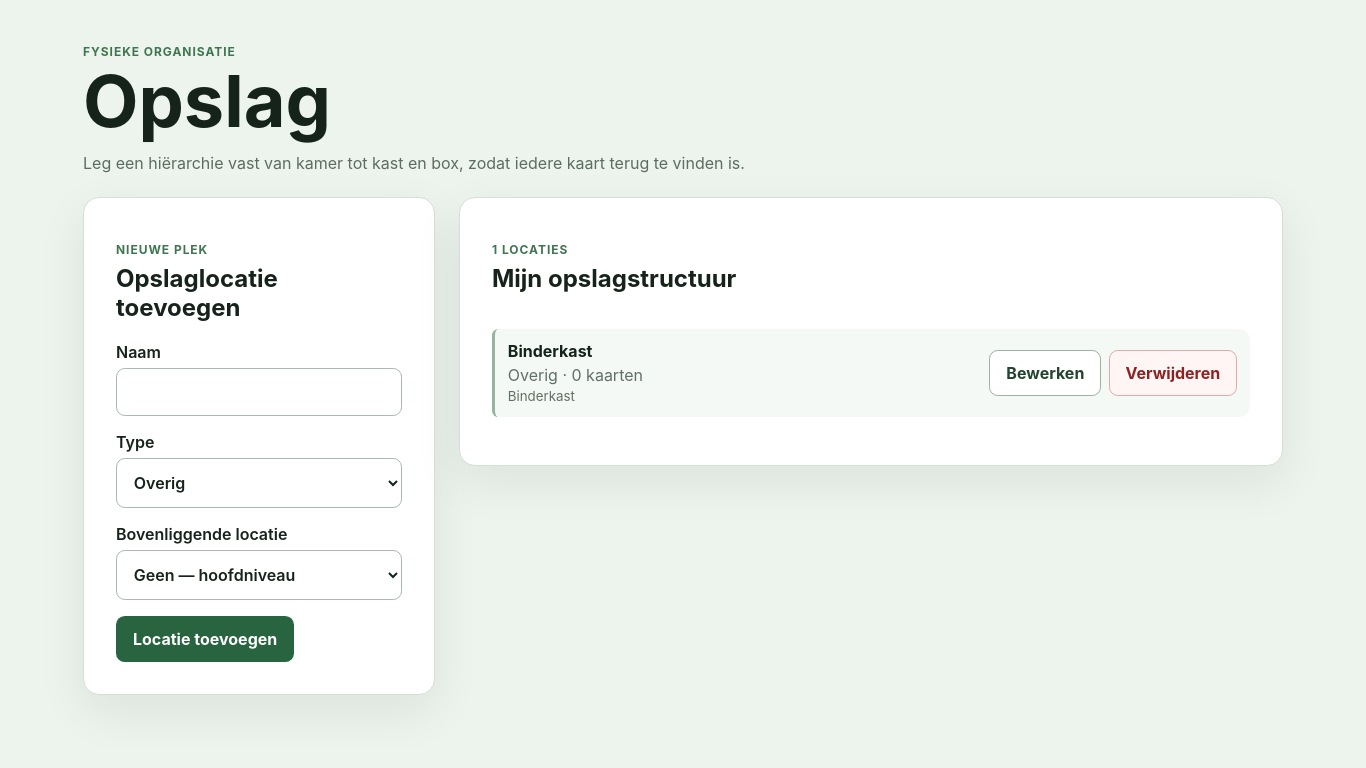
Test: StoragePage › lets the user edit a location and reports a safe deletion conflict
Click the button "Bewerken": (1045, 373) [989, 350, 1101, 396]
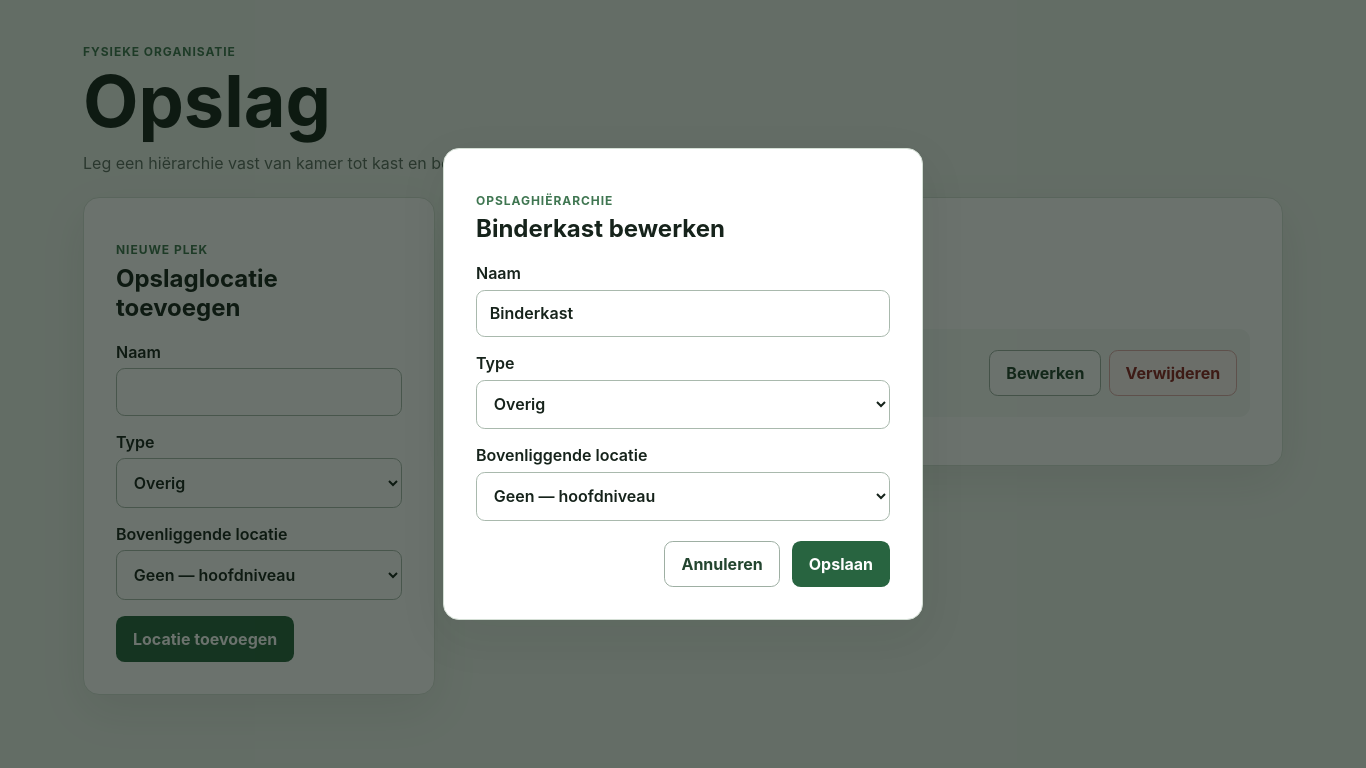
Now the field with id "edit-storage-name" is shown
Now the form is shown, box [476, 263, 890, 587]
Replace the text in the field with id "edit-storage-name" with "Nieuwe binderkast": (683, 313) [476, 290, 890, 337]
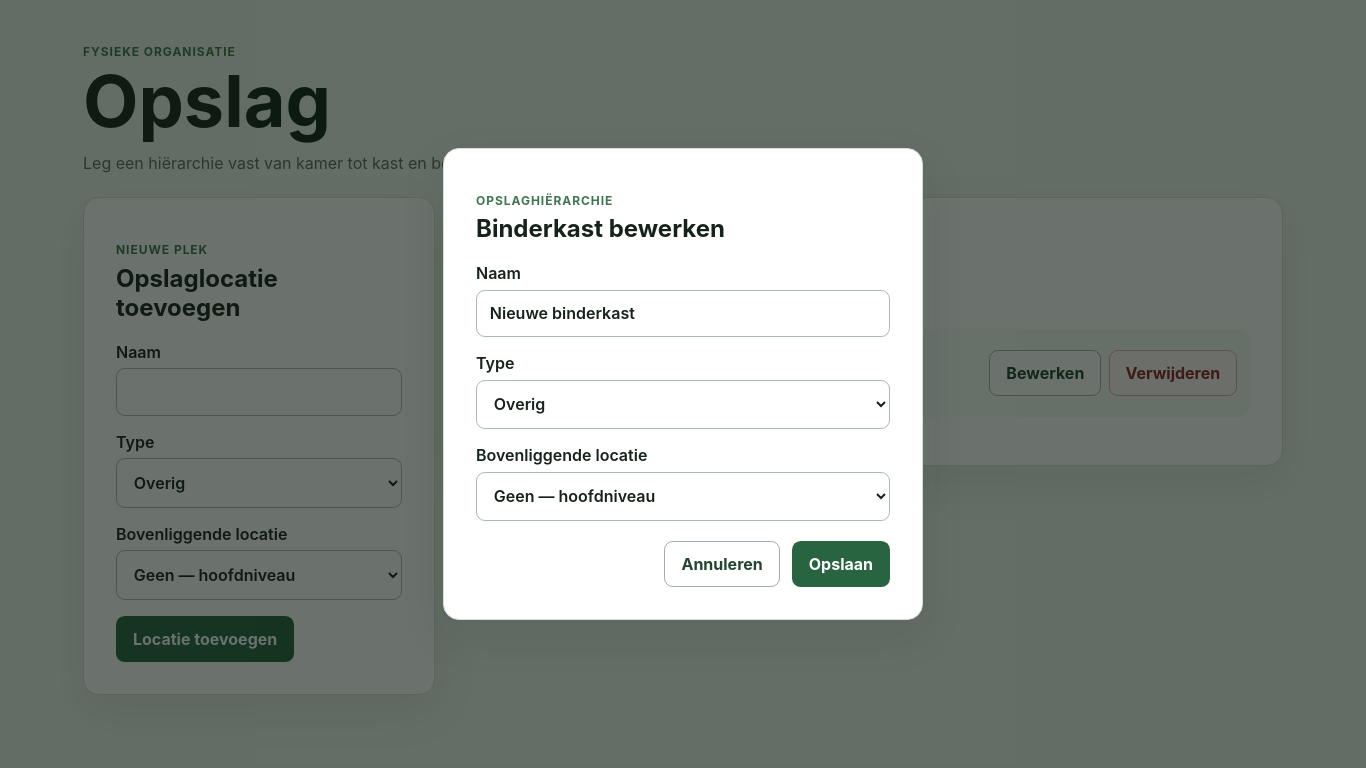
Submit the form, box [476, 263, 890, 587]
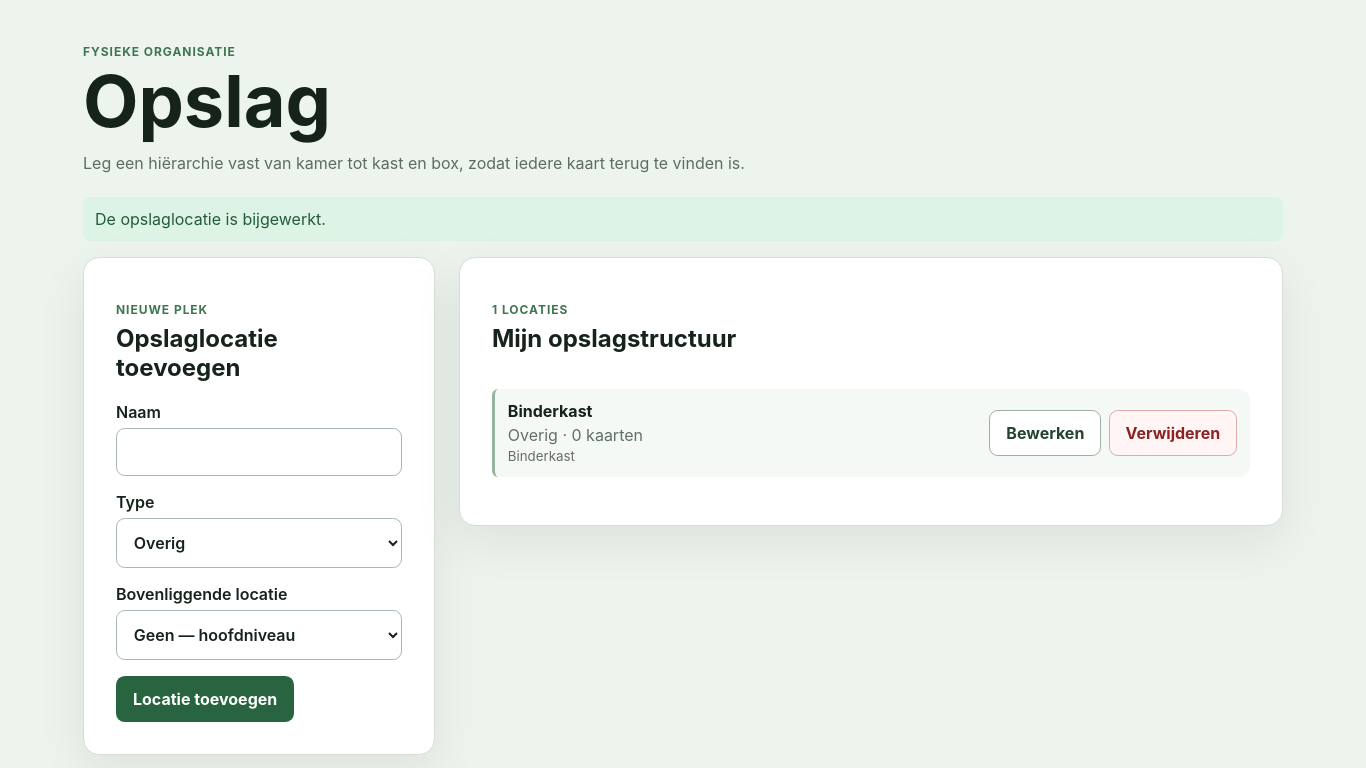
Now the text "De opslaglocatie is bijgewerkt." is shown, box [83, 197, 1283, 241]
Click the button "Verwijderen": (1173, 433) [1108, 410, 1237, 456]
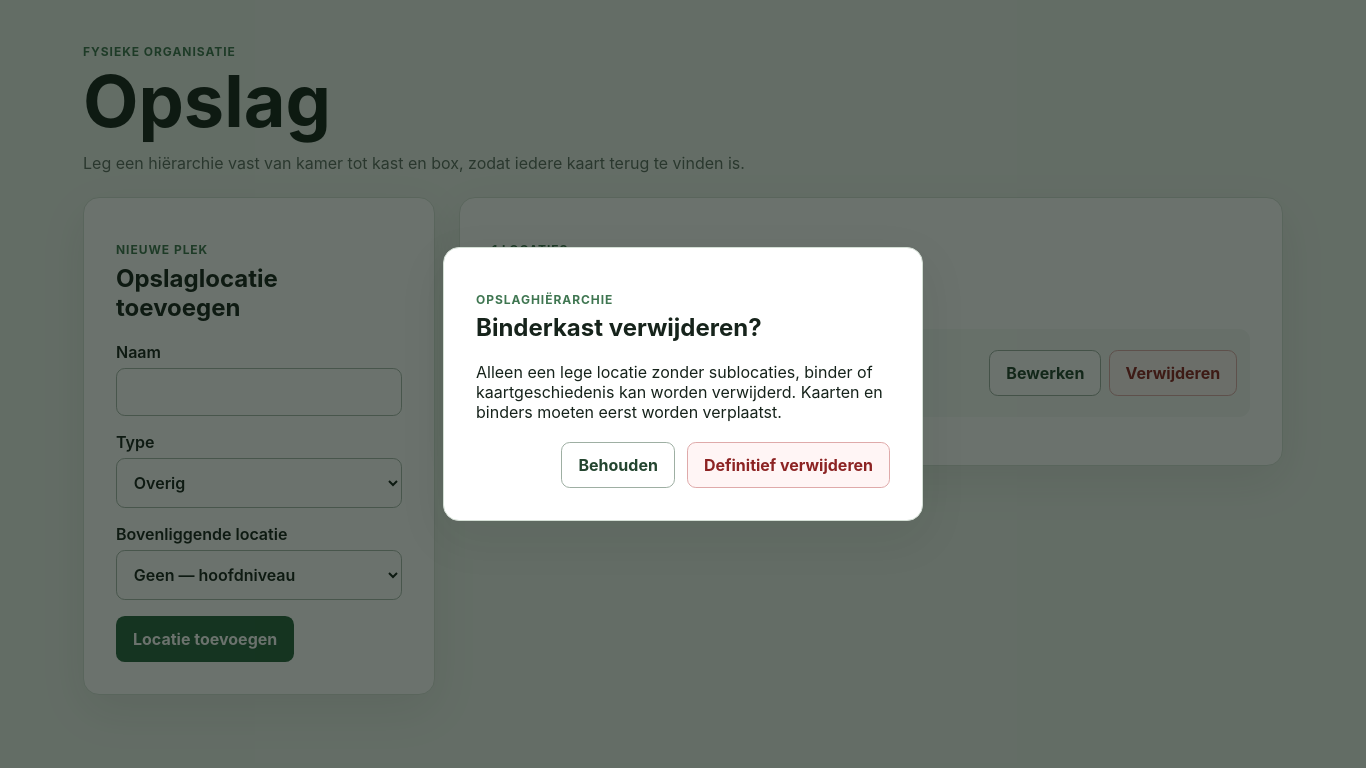
Now the button "Definitief verwijderen" is shown
Click the button "Definitief verwijderen": (788, 465) [687, 442, 890, 488]
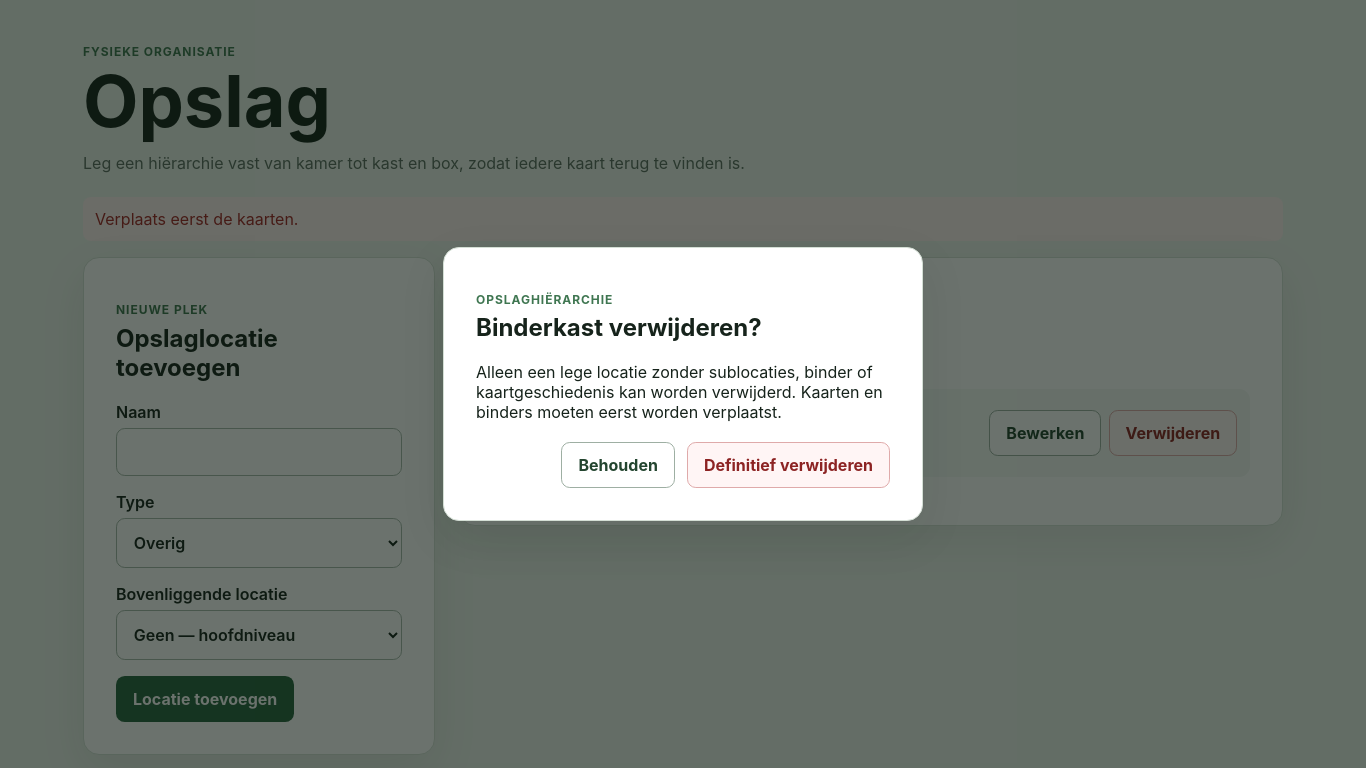
Now the heading with id "delete-storage-heading" reads "Binderkast verwijderen?", box [476, 313, 762, 342]
Now the text "Verplaats eerst de kaarten." is shown, box [83, 197, 1283, 241]
